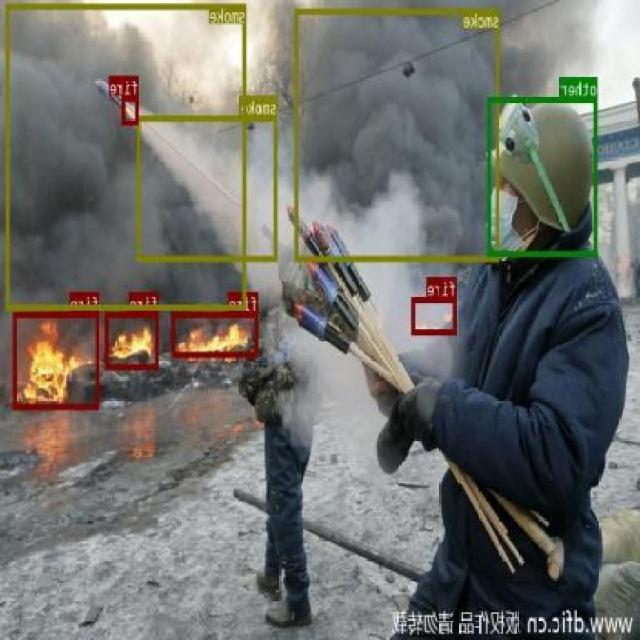Fire: (13, 310, 101, 408), (172, 311, 258, 357), (106, 310, 160, 370), (123, 94, 140, 123)
Smoke: (6, 3, 246, 309), (295, 7, 500, 261), (138, 114, 278, 260), (412, 295, 458, 334)
